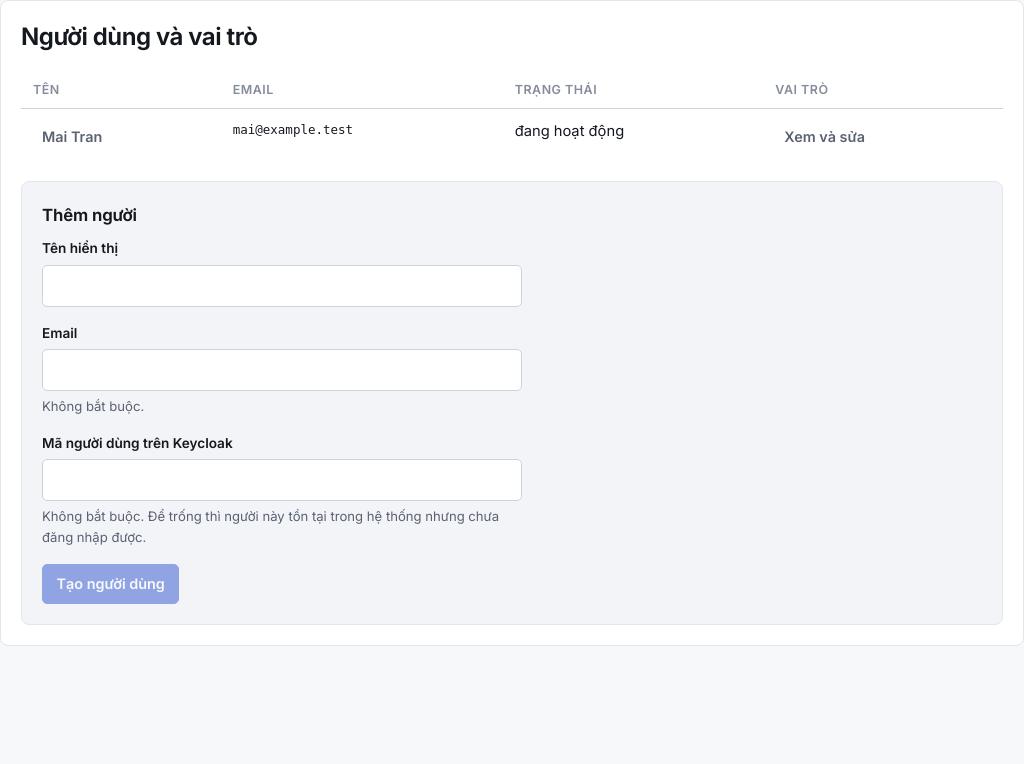
Test: People › says plainly when somebody has no role at all
The image size is (1024, 764).
What coordinates should you click on to do the following:
click the button "Mai Tran"
I would click on:
 (72, 137)
Its box is 33,120 -> 111,154.
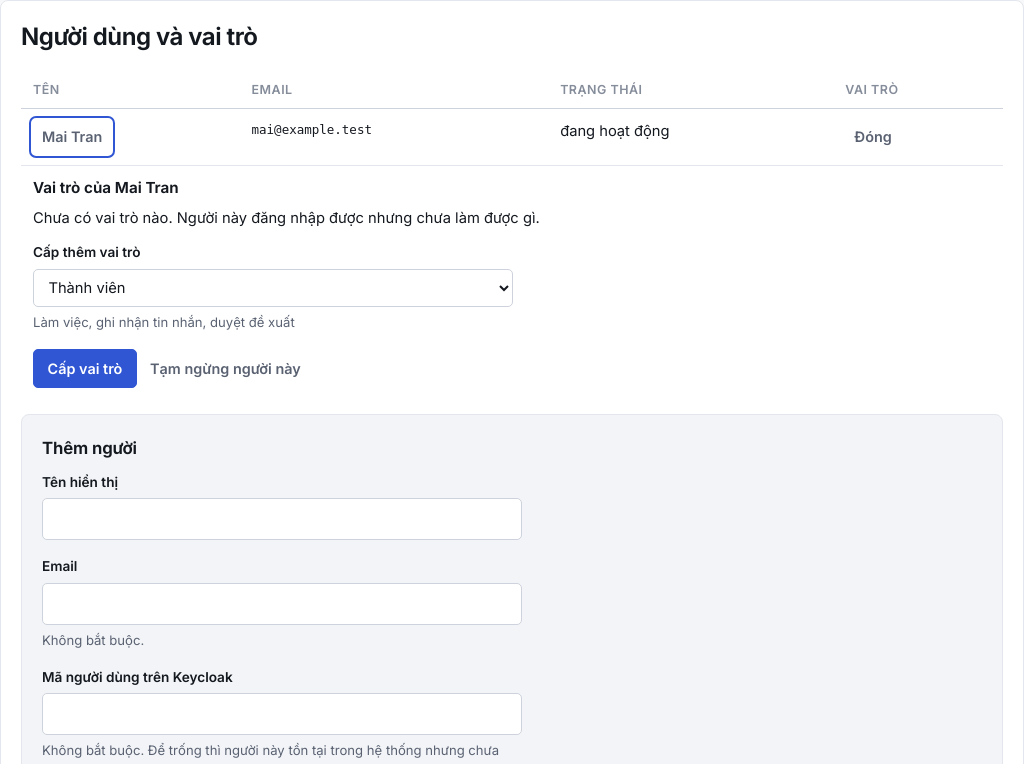
Check: the text with test id "no-roles" is shown, box 33,209 -> 540,227
